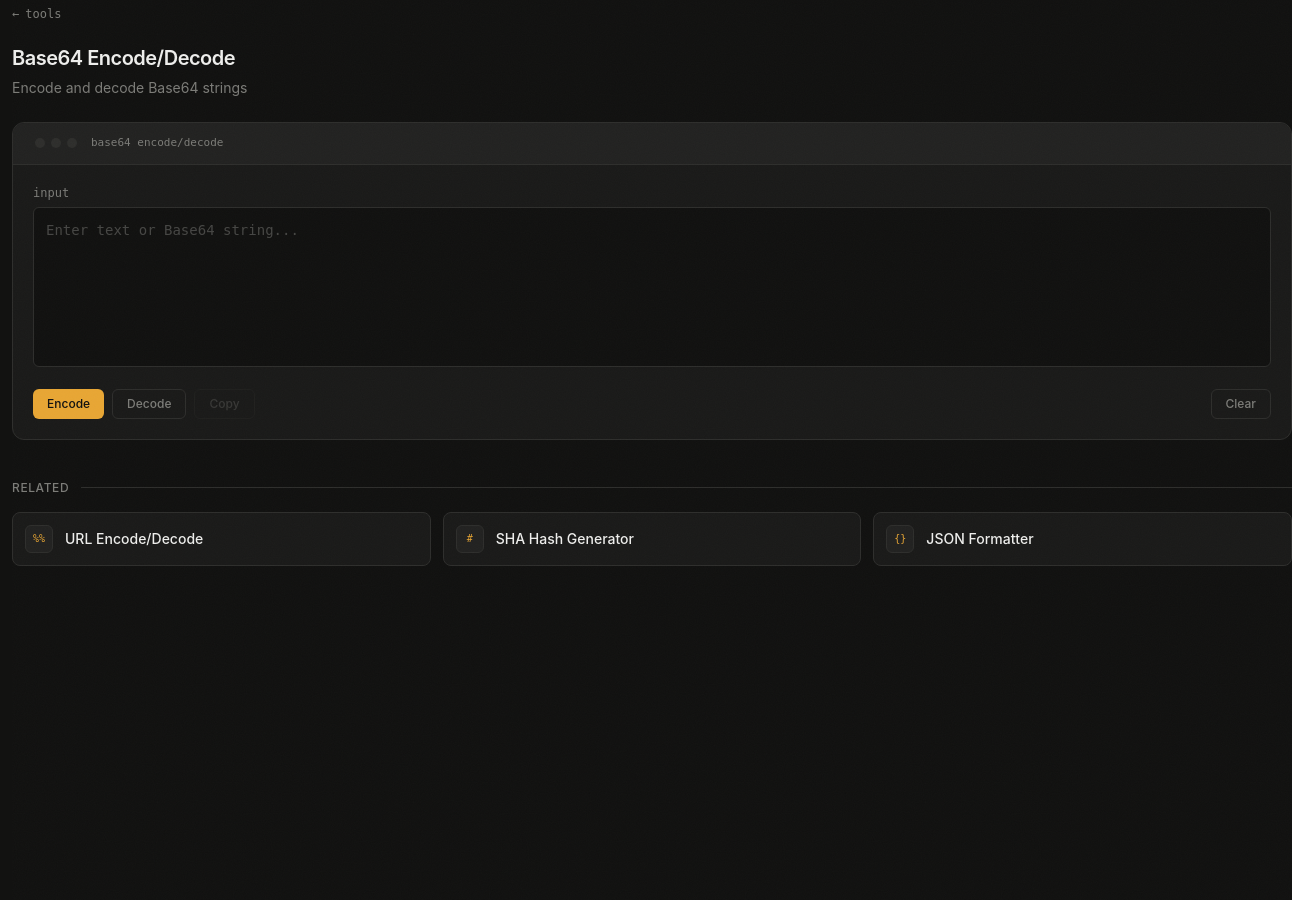
Base64 Encode/Decode › shows error for invalid Base64
Type "!!!not-base64!!!" into the text box with placeholder "Enter text or Base64 string...".
click(652, 286); type("!!!not-base64!!!")  # box [33,206,1271,366]
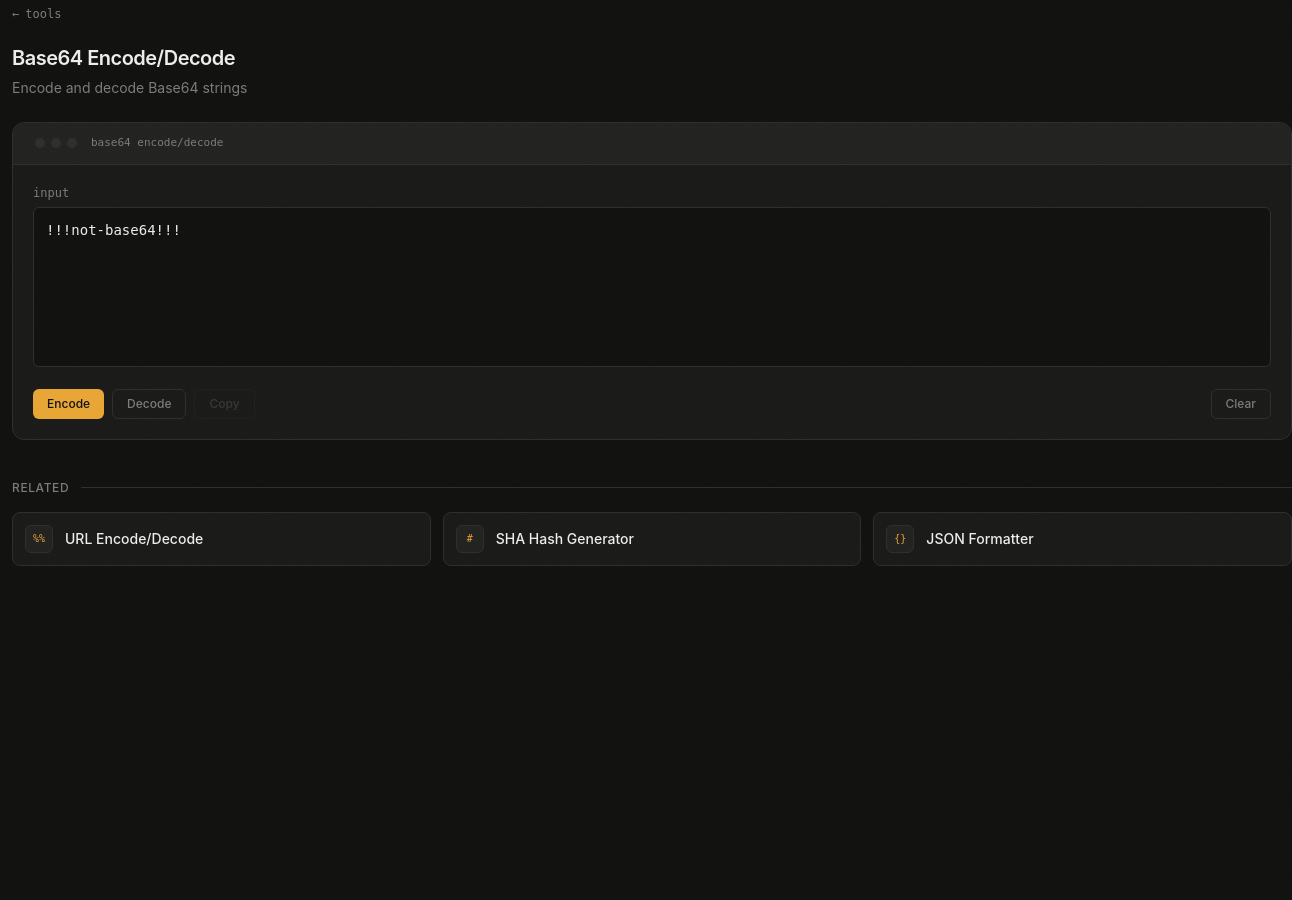
Click the button "Decode".
click(149, 404)  # box [112,388,186,418]
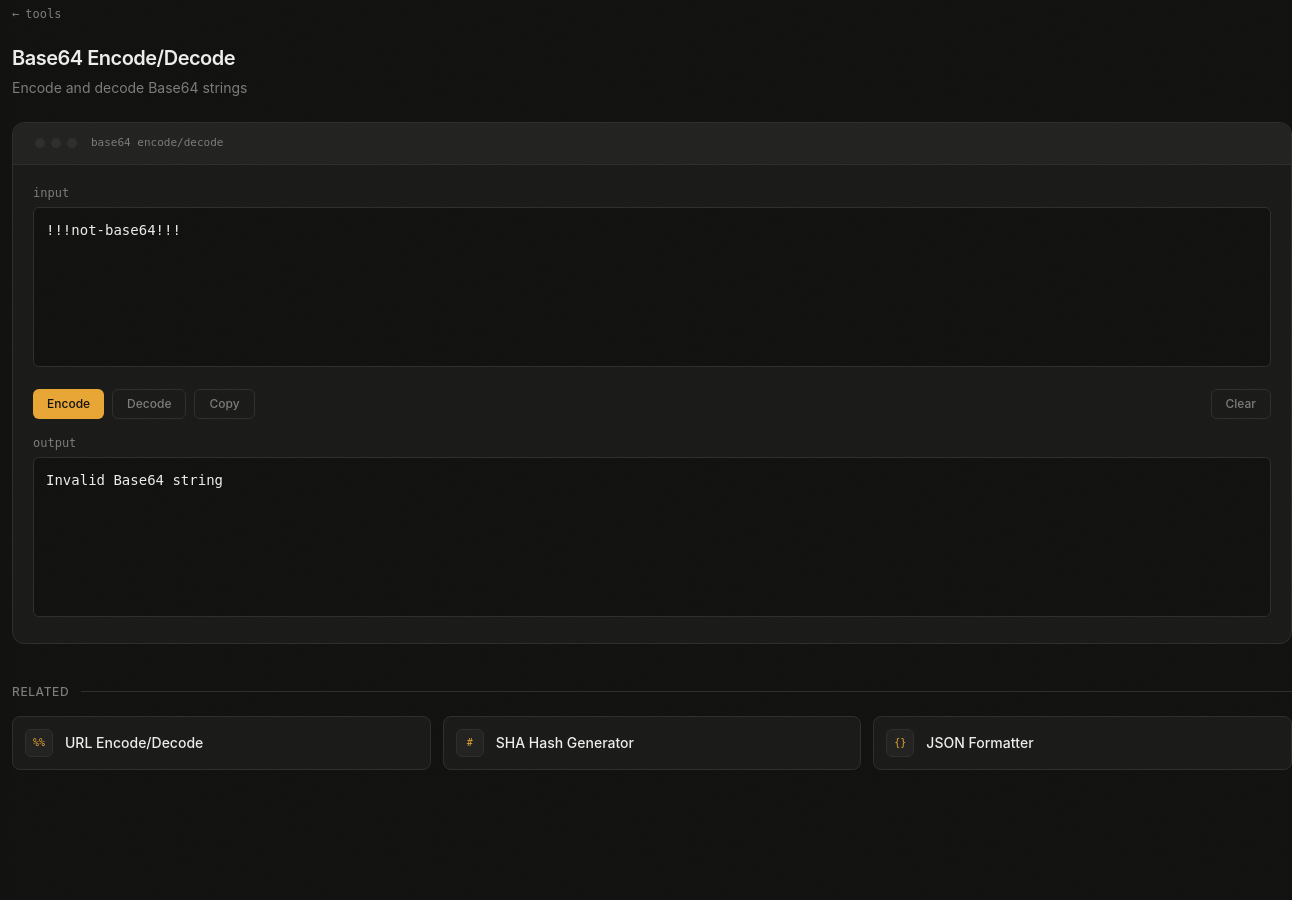
Expected: the text box showing "Invalid Base64 string" below "output" is shown, [33,456,1271,616]
